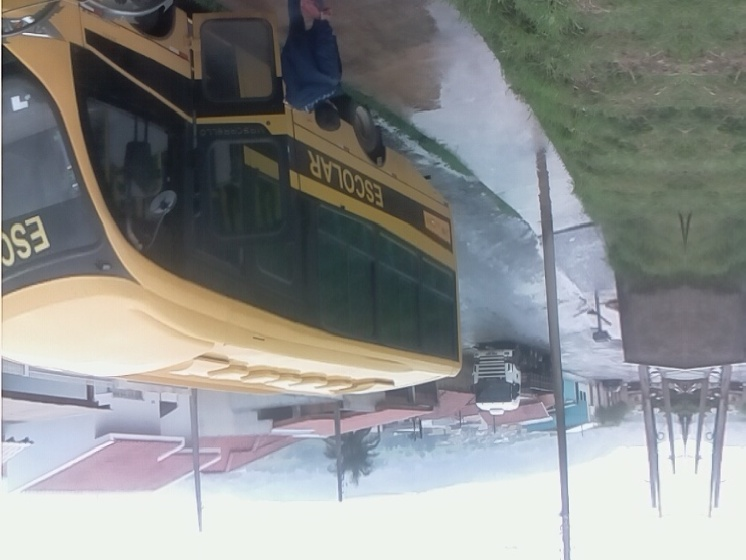person: (281, 0, 345, 133)
